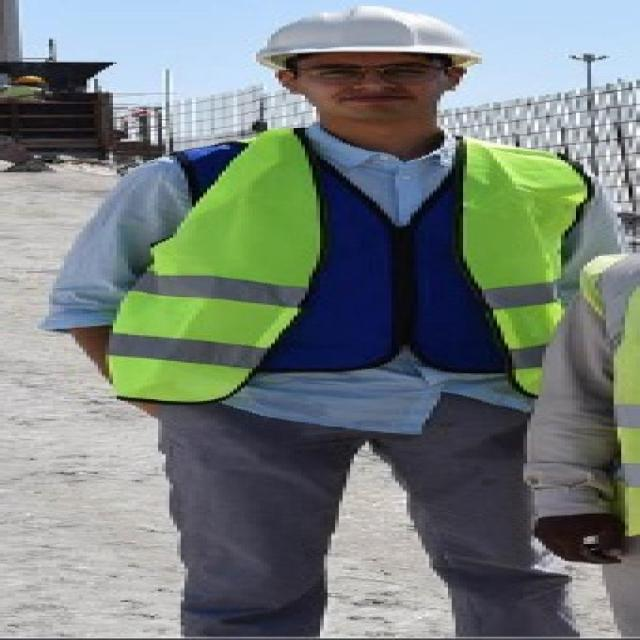Helmet: (201, 2, 527, 125)
Safety Vest: (96, 110, 594, 470), (527, 239, 640, 588)
